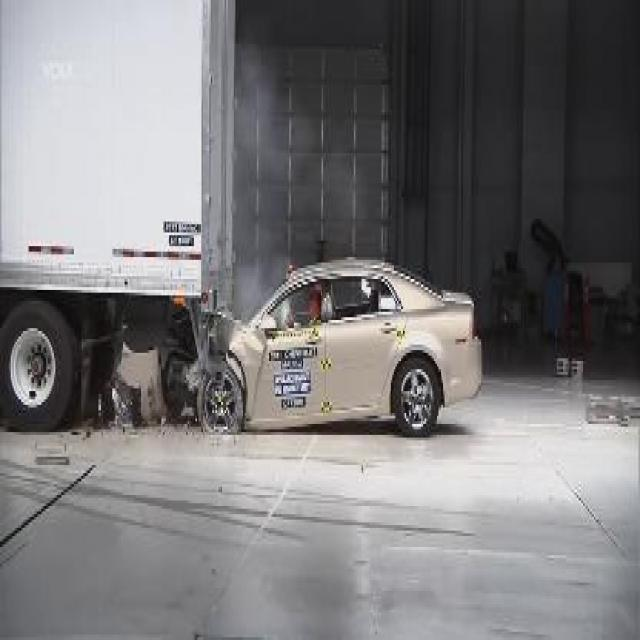accident: (0, 3, 485, 454)
